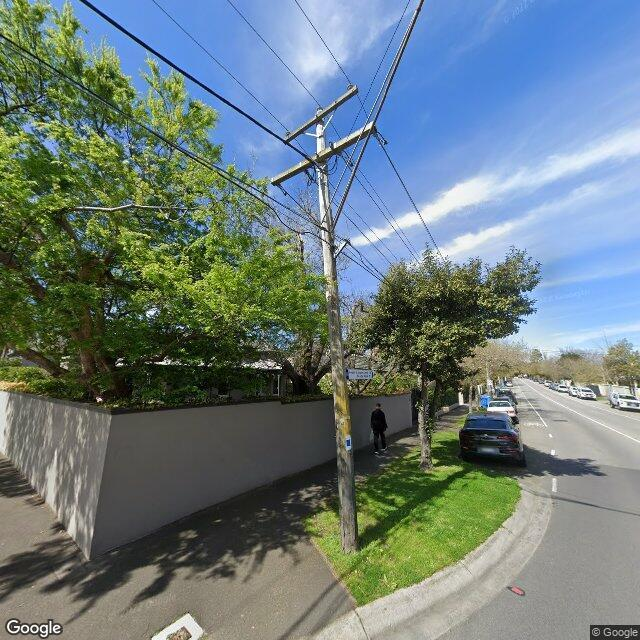HV-transmission: (284, 81, 358, 143)
crossarm: (270, 120, 388, 196), (284, 86, 358, 143)
timber-pole: (316, 107, 359, 554), (283, 83, 359, 144)
